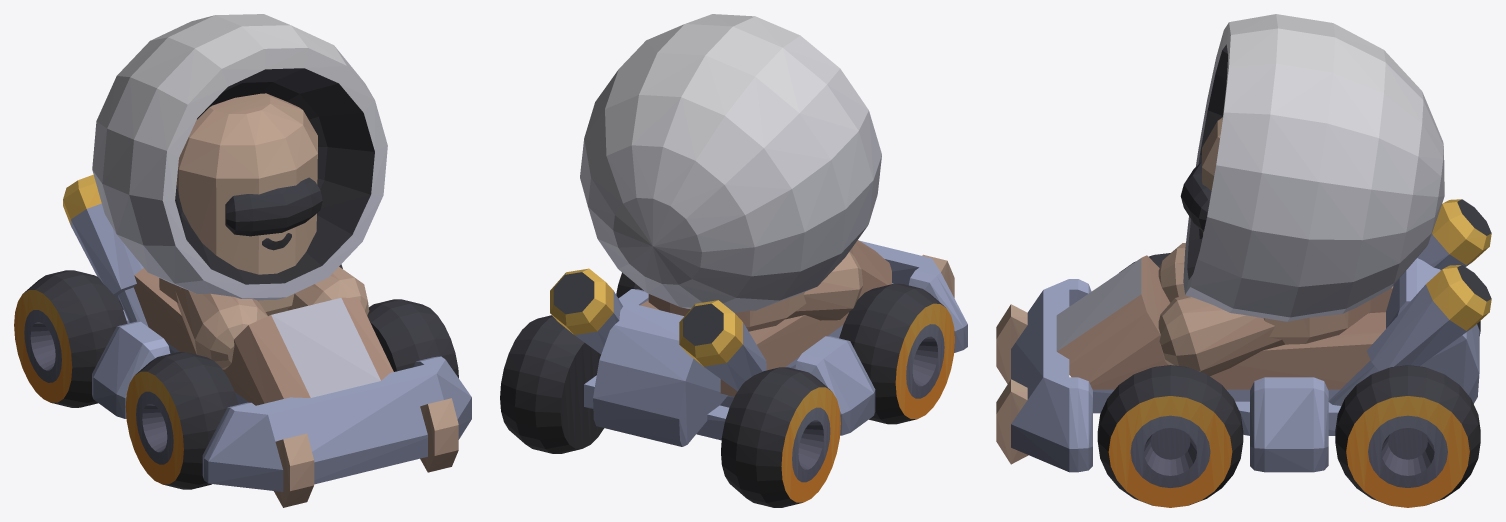
Rendered from kart_oozi.glb.
The picture shows the model from 3 angles, left to right: view 1: azimuth 30°, elevation 25°; view 2: azimuth 150°, elevation 25°; view 3: azimuth 270°, elevation 25°; orthographic projection. The views are drawn at different scales.
Parts seen in each view (by area): view 1: character, kart-oozi, wheel_rl, wheel_fl, wheel_fr; view 2: character, kart-oozi, wheel_rl, wheel_fl, wheel_rr; view 3: character, kart-oozi, wheel_fr, wheel_rr.
Part boxes in pixels (x1,y1,x2,y2): character: (92, 14, 387, 369); kart-oozi: (63, 174, 471, 507); wheel_rl: (14, 270, 127, 407); wheel_fl: (125, 352, 238, 489); wheel_fr: (367, 299, 458, 377); character: (580, 14, 881, 331); kart-oozi: (550, 240, 967, 446); wheel_rl: (721, 367, 840, 507); wheel_fl: (839, 283, 954, 424); wheel_rr: (500, 315, 604, 453); character: (1158, 14, 1444, 375); kart-oozi: (996, 199, 1491, 472); wheel_fr: (1097, 365, 1243, 507); wheel_rr: (1335, 365, 1480, 507).
Size of the model in its own units: 1.27 by 1.73 by 1.86.
